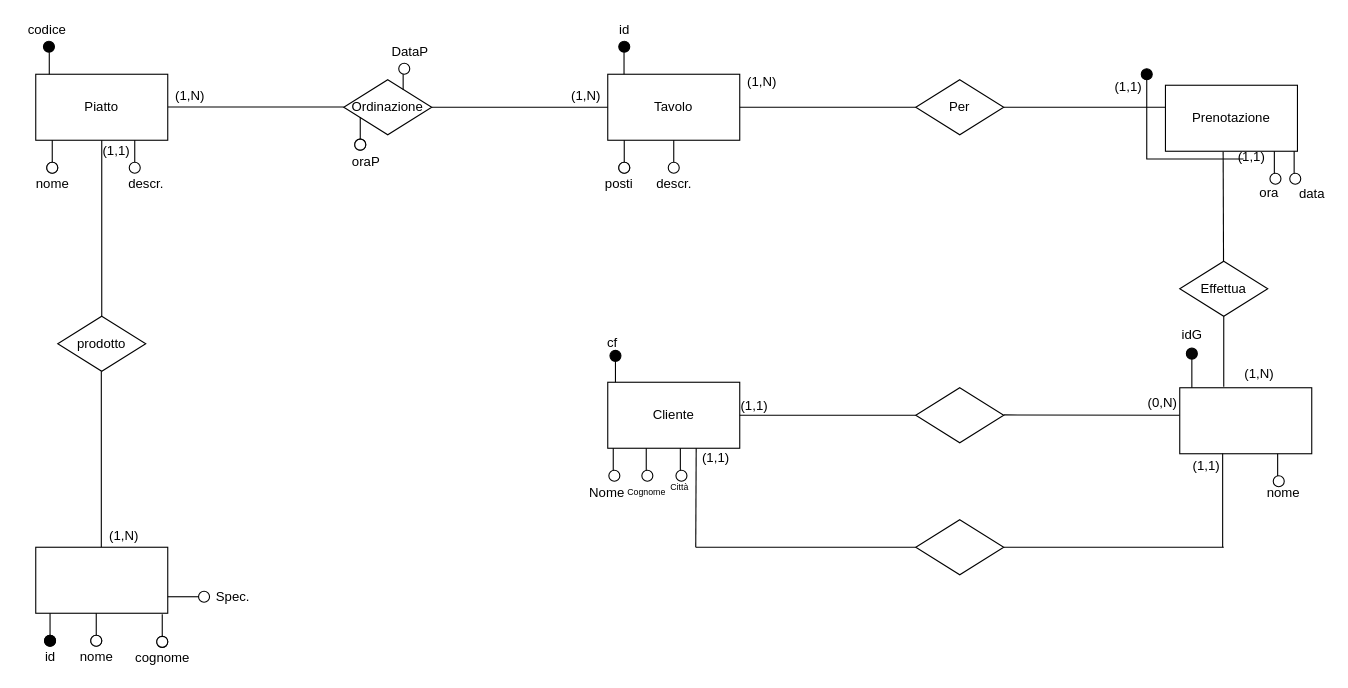
This 1348x688 diagram has some shape labels left out. Each missing label, with the box of its shape:
Chef: (35, 546, 168, 613)
Fa parte: (915, 387, 1004, 443)
Gruppo: (1179, 387, 1312, 454)
Possiede Capo: (915, 519, 1004, 575)
